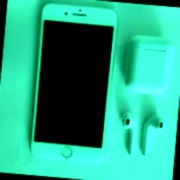iphone: (32, 5, 112, 162)
